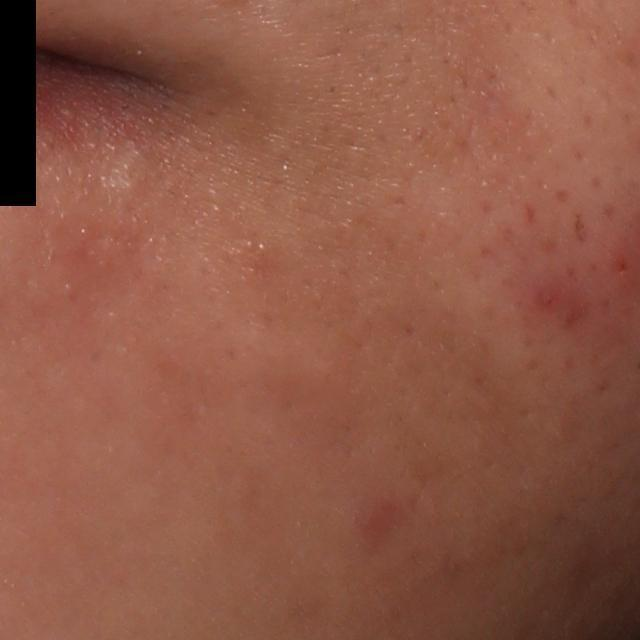hypertrophic_scar: (109, 145, 154, 205)
